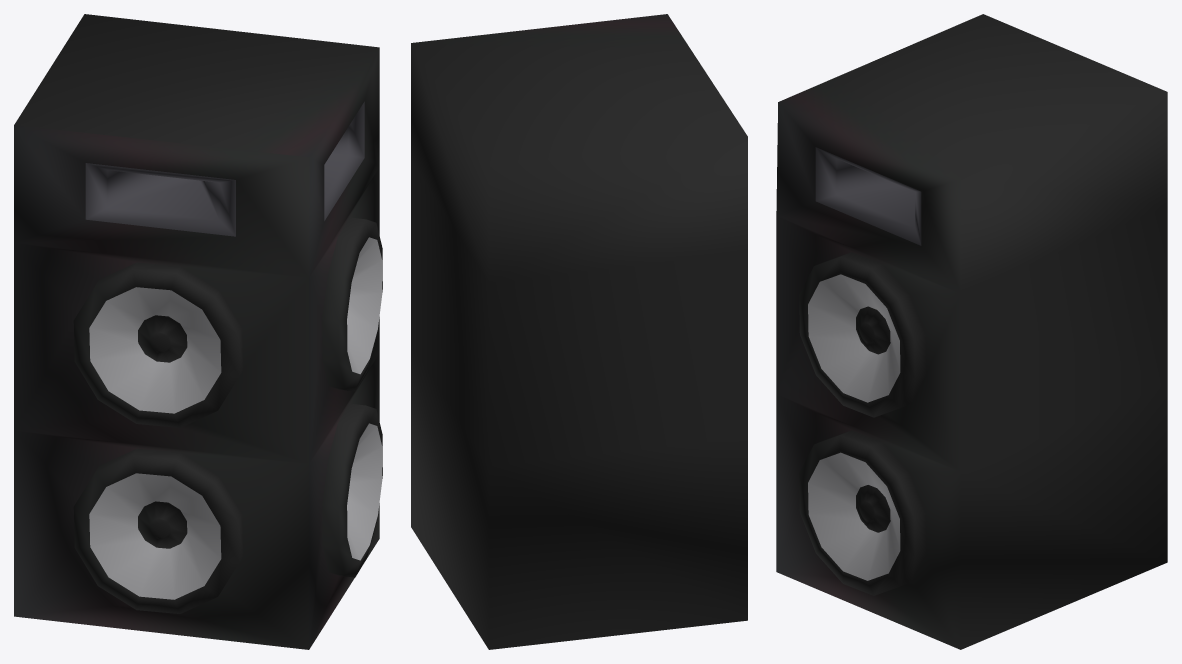
File: SpeakersBigMulti.glb
The picture shows the model from 3 angles, left to right: view 1: azimuth 30°, elevation 25°; view 2: azimuth 150°, elevation 25°; view 3: azimuth 270°, elevation 25°; orthographic projection. The views are drawn at different scales.
Parts seen in each view (by area): view 1: SpeakersBigMulti; view 2: SpeakersBigMulti; view 3: SpeakersBigMulti.
Part boxes in pixels (x1,y1,x2,y2): SpeakersBigMulti: [14, 14, 382, 649]; SpeakersBigMulti: [411, 14, 747, 649]; SpeakersBigMulti: [776, 14, 1167, 649].
Bounding box in the file's own units: 1.5 × 1.99 × 1.5.
Materials: 1 (1 with a texture image).
